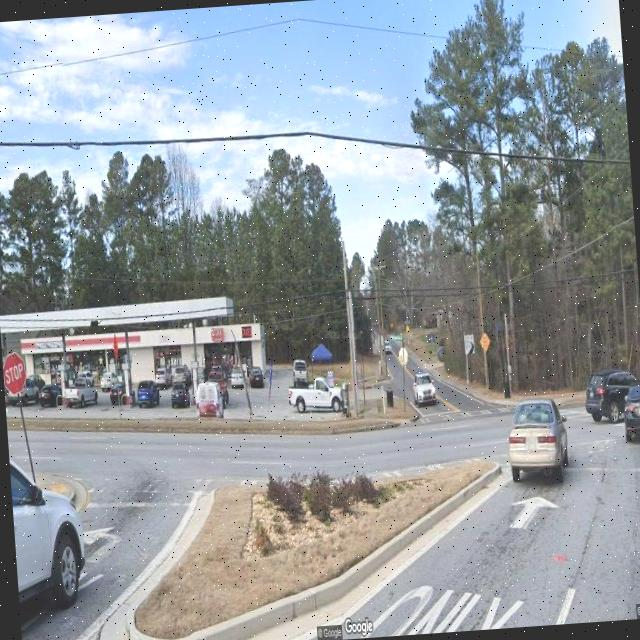trash_can: (385, 388, 394, 408), (502, 378, 510, 397)
